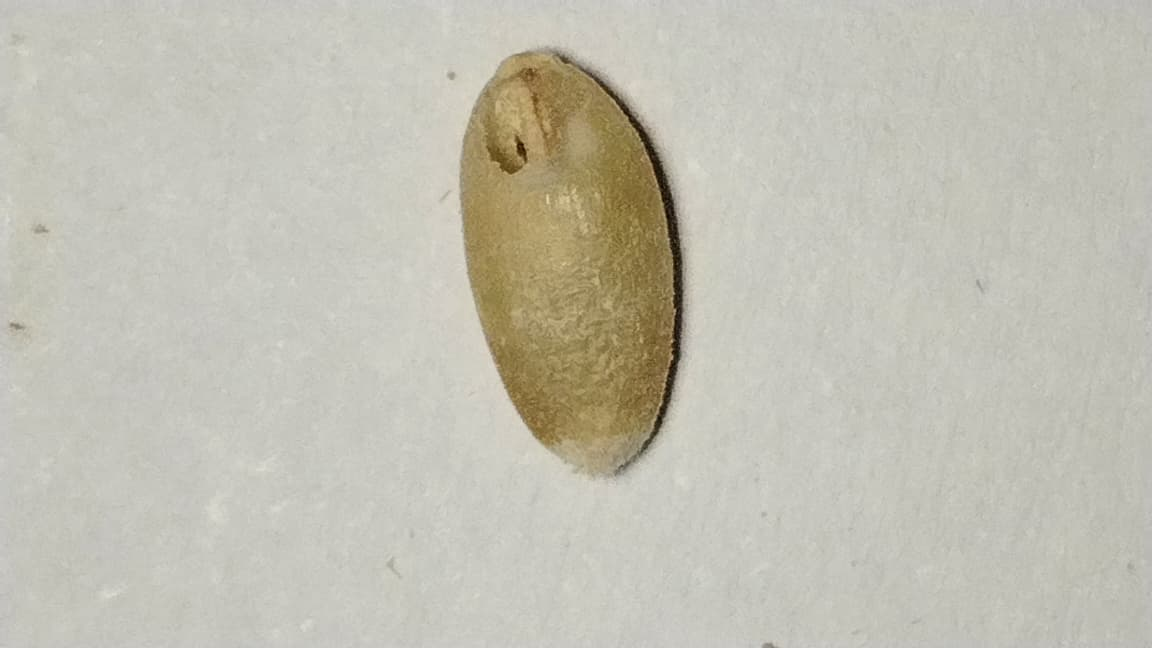damage: (460, 52, 672, 474)
insectdamage: (484, 69, 568, 195)
